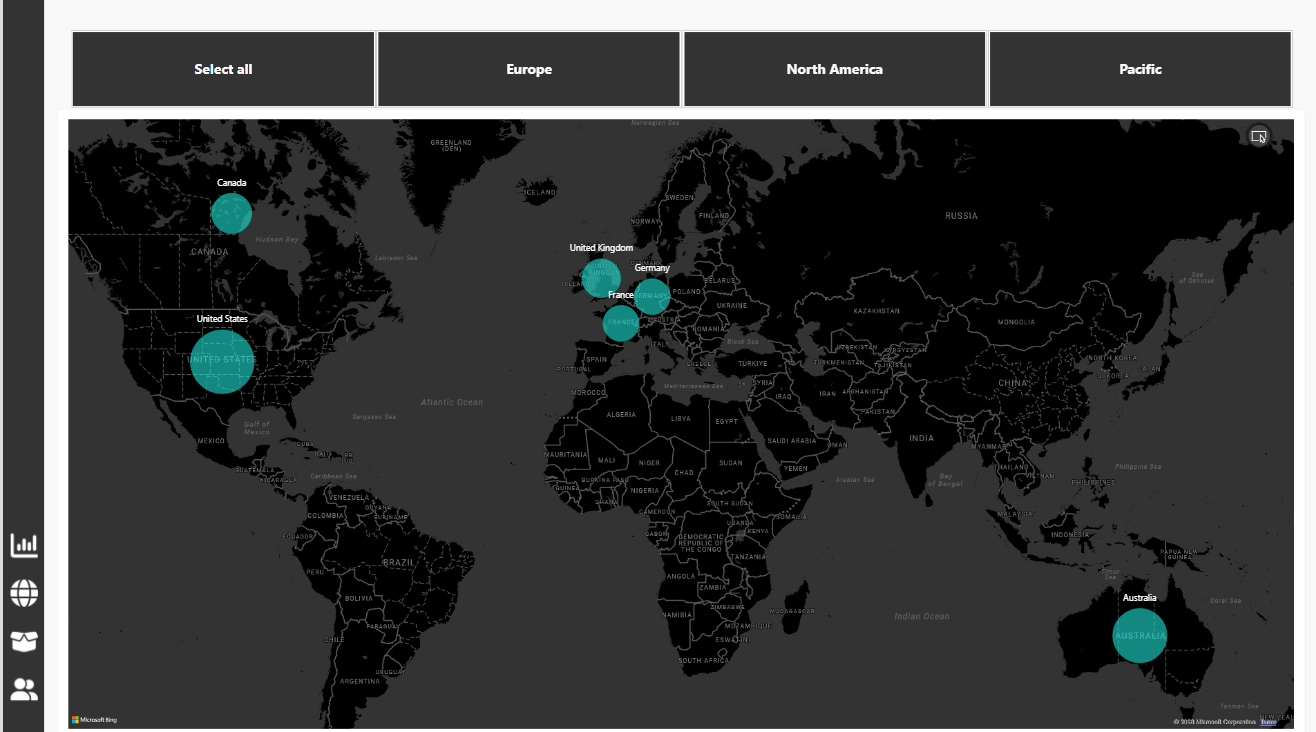

This screenshot's page, from the dashboard's own definition file:
{"tool":"powerbi","page":{"name":"Maps","canvas":[1920,1080],"ordinal":1},"visuals":[{"type":"shape","box":[0,0,60,1079.9],"z":0},{"type":"actionButton","box":[2,761.4,58,70],"z":0,"group":"g1"},{"type":"map","fields":{"Category":["Territory Lookup.Country"],"Size":["Measure Table.Total Orders"]},"box":[78,164,1808,916],"z":1000},{"type":"actionButton","box":[2,831.1,58,70],"z":1000,"group":"g1"},{"type":"slicer","fields":{"Values":["Territory Lookup.Continent"]},"box":[78,48,1808,116],"z":2000},{"type":"actionButton","box":[2,900.7,58,70],"z":2000,"group":"g1"},{"type":"group","id":"g1","title":"Navigation Buttons","box":[2,761.4,58,279],"z":3000},{"type":"actionButton","box":[2,970.4,58,70],"z":3000,"group":"g1"}]}

Visuals, with their boxes on the page's 1920x1080 design canvas (x1, y1, x2, y2). These are canvas units, not pixel positions in the 1316x732 screenshot, which may show the page scaled, cropped or inside an application window:
shape: x1=0, y1=0, x2=60, y2=1080
actionButton: x1=2, y1=761, x2=60, y2=831
map - Territory Lookup.Country x Measure Table.Total Orders: x1=78, y1=164, x2=1886, y2=1080
actionButton: x1=2, y1=831, x2=60, y2=901
slicer - Territory Lookup.Continent: x1=78, y1=48, x2=1886, y2=164
actionButton: x1=2, y1=901, x2=60, y2=971
"Navigation Buttons" group: x1=2, y1=761, x2=60, y2=1040
actionButton: x1=2, y1=970, x2=60, y2=1040
